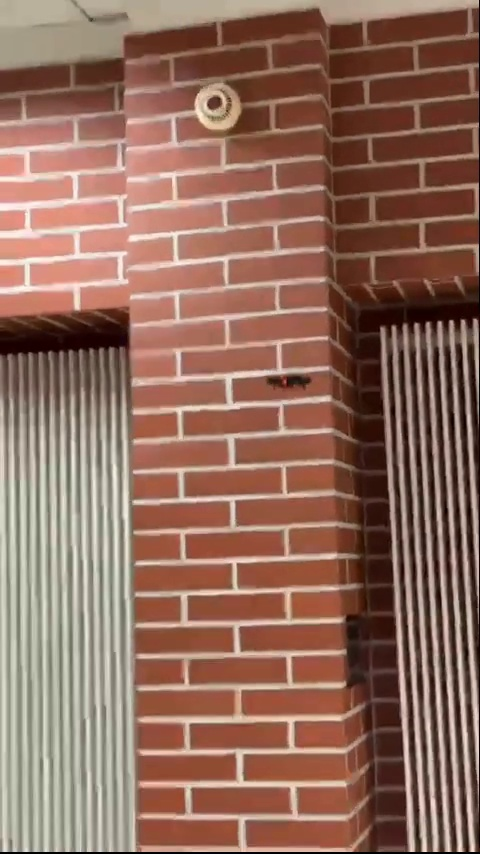drone: (267, 370, 314, 393)
